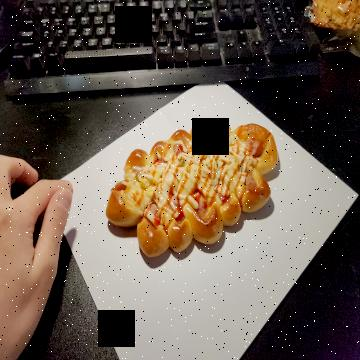pizza_bread: (104, 120, 281, 256)
